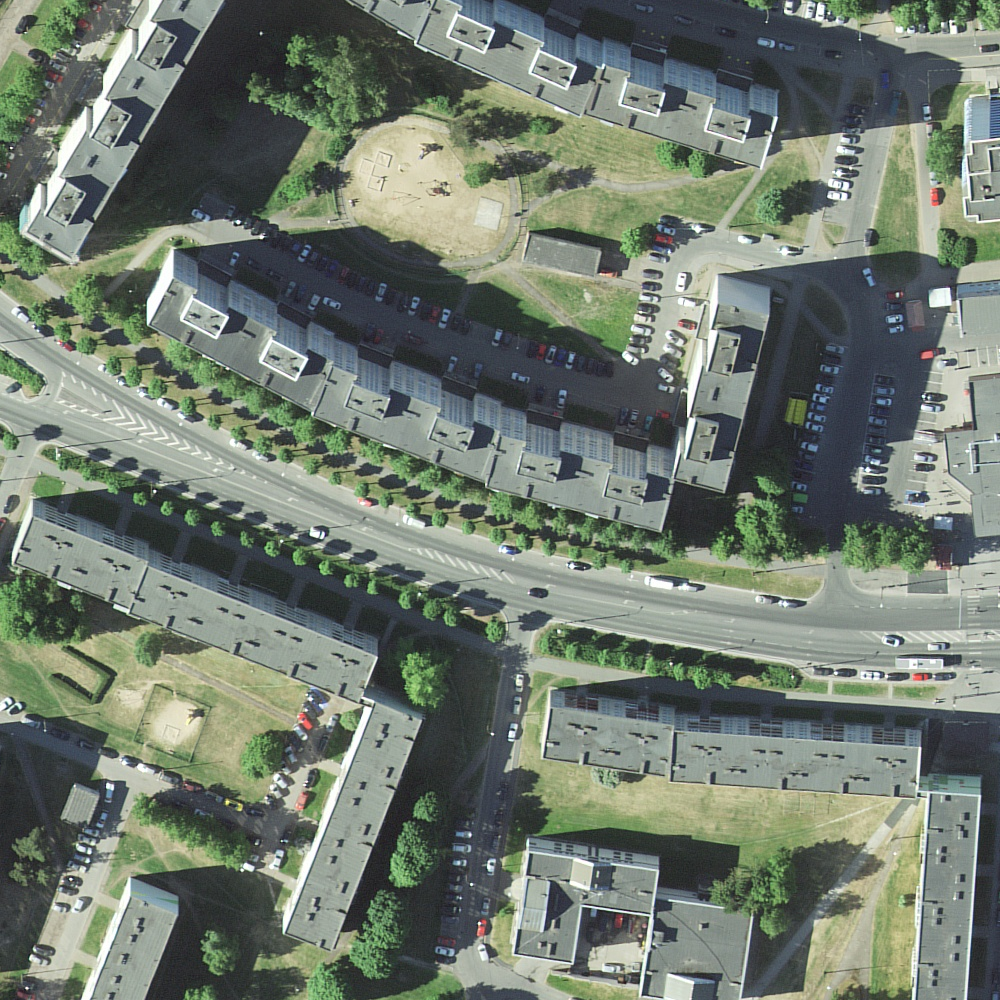building: (149, 277, 674, 532), (347, 1, 777, 169), (13, 515, 379, 704), (23, 1, 226, 263), (510, 849, 755, 999), (283, 701, 425, 953), (540, 706, 920, 798), (674, 303, 770, 493), (913, 791, 981, 999), (88, 892, 179, 1000), (944, 376, 1000, 538), (523, 233, 602, 278), (961, 139, 999, 222), (62, 784, 100, 832)
